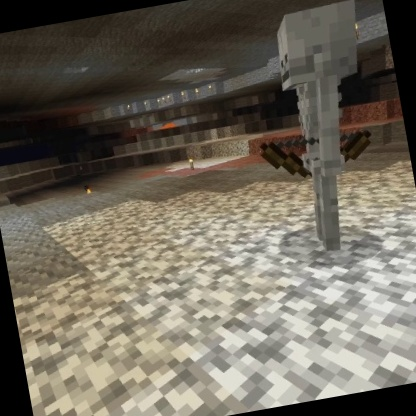skeleton: (231, 0, 403, 266)
